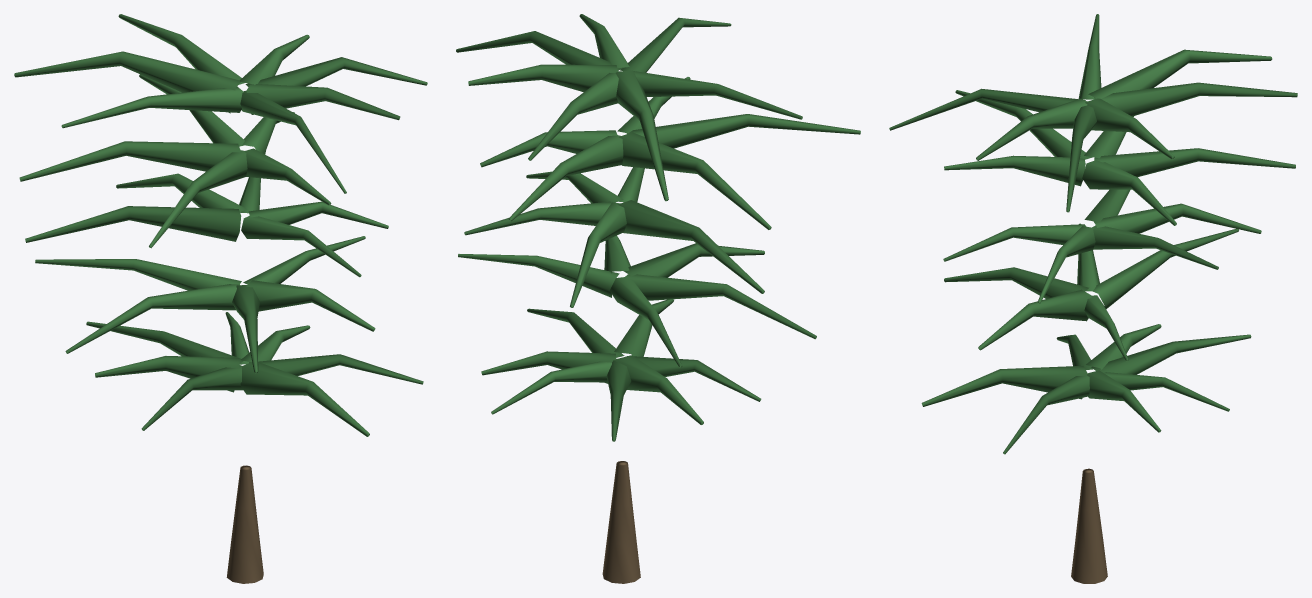
File: field_fir_c_lod1.glb
3 renders of one model, left to right at view 1: azimuth 30°, elevation 25°; view 2: azimuth 150°, elevation 25°; view 3: azimuth 270°, elevation 25°, orthographic. The views are drawn at different scales.
Parts seen in each view (by area): view 1: foliage, bark; view 2: foliage, bark; view 3: foliage, bark.
Boxes of the visible parts, box(x1,y1,x2,y2) form: foliage: box(14, 14, 427, 436); bark: box(226, 465, 263, 583); foliage: box(456, 14, 860, 441); bark: box(602, 461, 640, 583); foliage: box(889, 14, 1297, 454); bark: box(1071, 468, 1107, 583).
Size of the model in its own units: 4.12 by 5.58 by 4.21.
